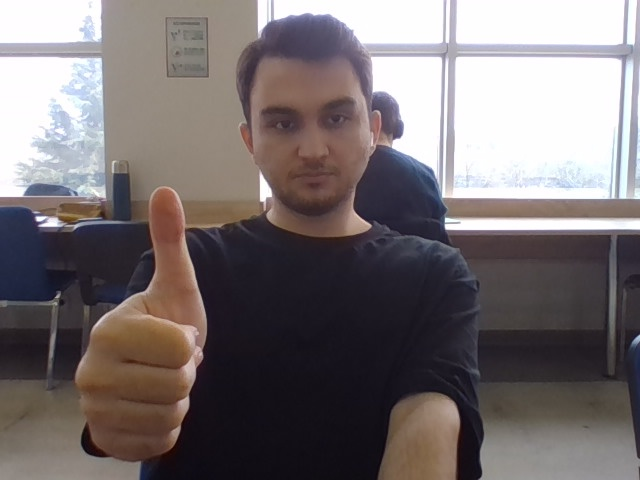thumbsup: (73, 186, 208, 461)
